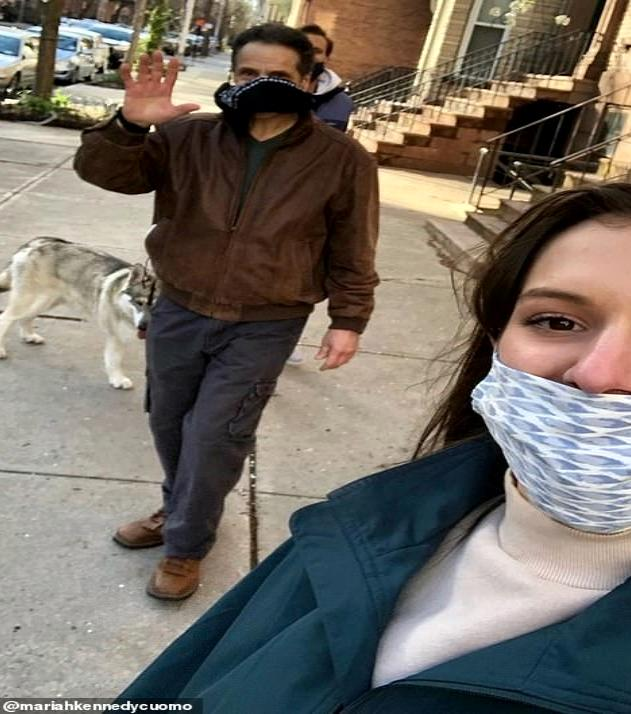mask_weared_incorrect: (467, 177, 631, 532)
